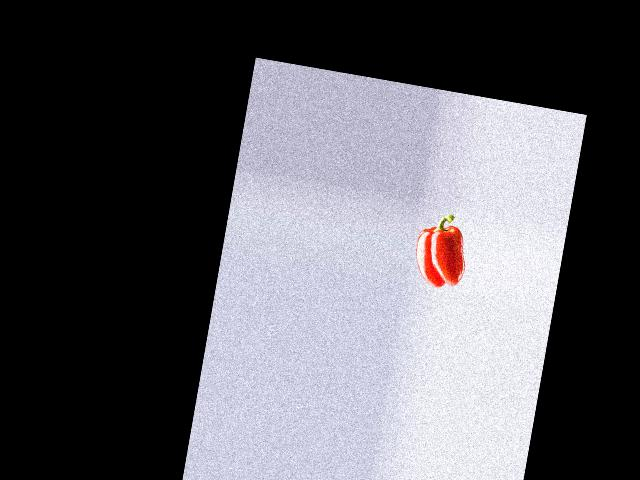bell_pepper: (408, 208, 474, 289)
